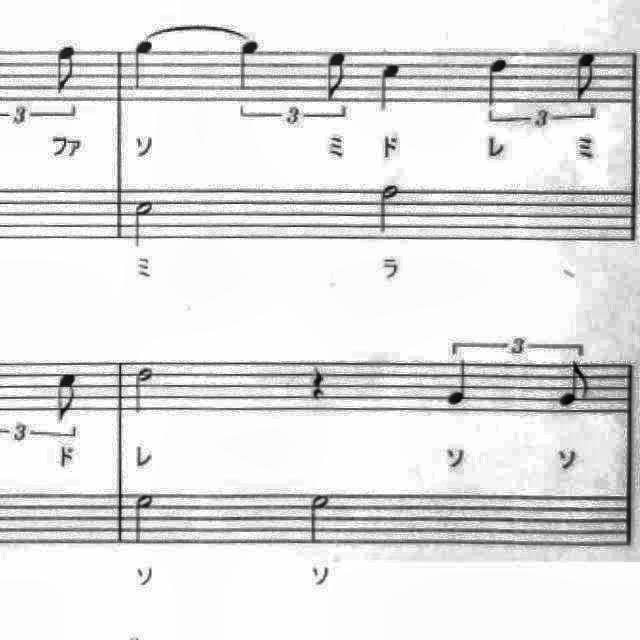Eighth-note: (552, 358, 594, 414), (319, 46, 356, 106), (49, 39, 86, 99), (569, 47, 607, 105), (51, 366, 87, 426)
Half-note: (301, 488, 339, 550), (372, 178, 406, 242), (128, 193, 162, 251), (130, 490, 162, 550), (129, 362, 159, 418)
Quarter-note: (371, 57, 409, 119), (232, 35, 268, 97), (480, 51, 516, 112), (439, 354, 476, 412), (126, 38, 162, 96)
Quarter-rest: (302, 360, 334, 408)
